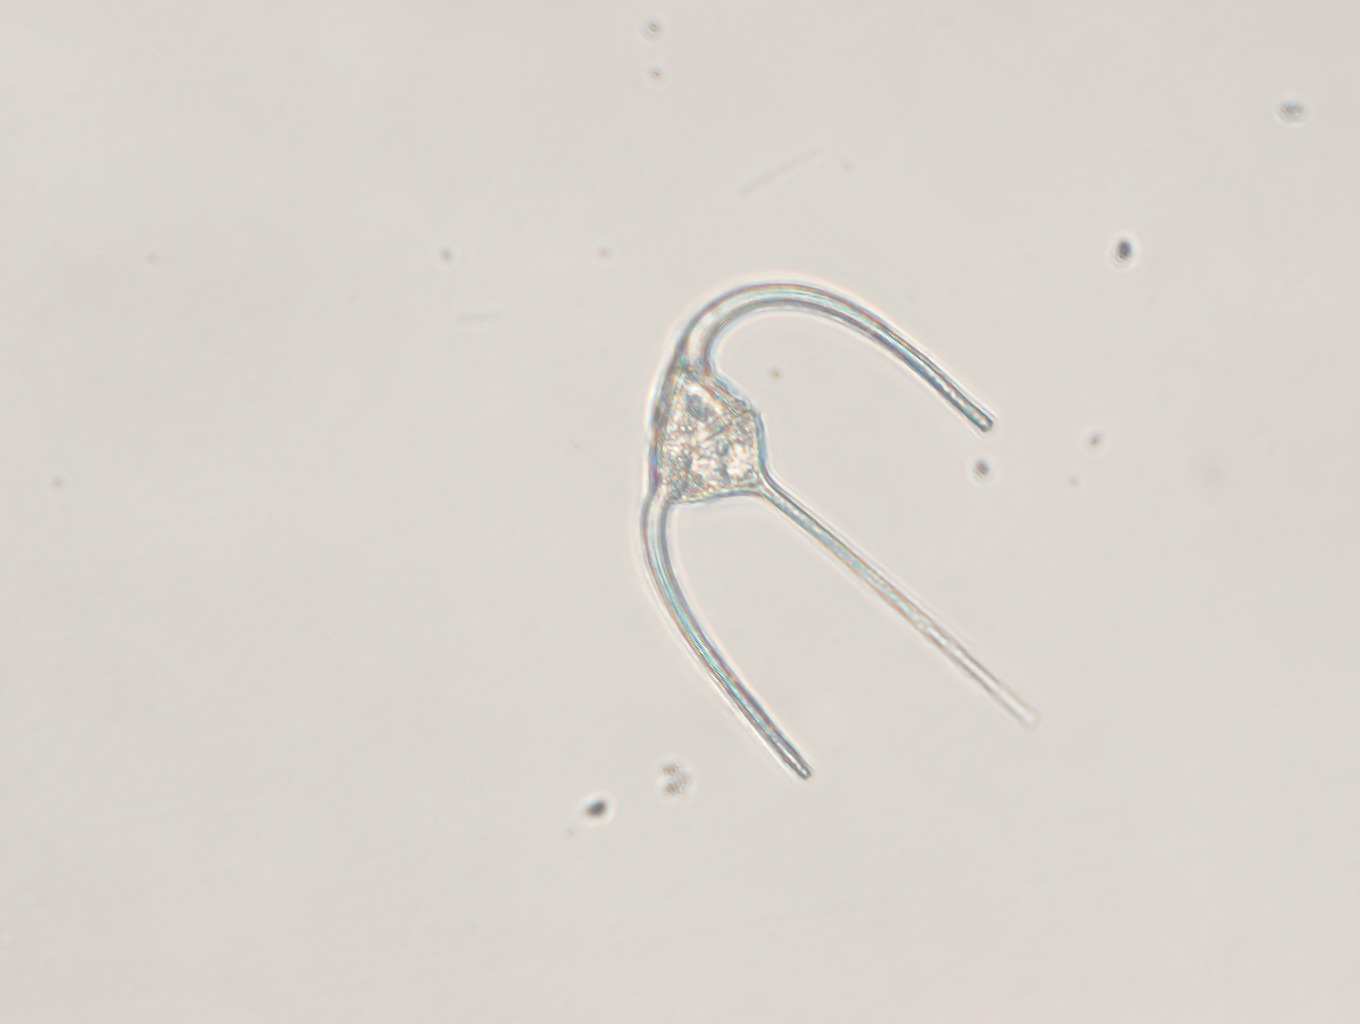ceratium trichoceros: (639, 286, 1063, 787)
